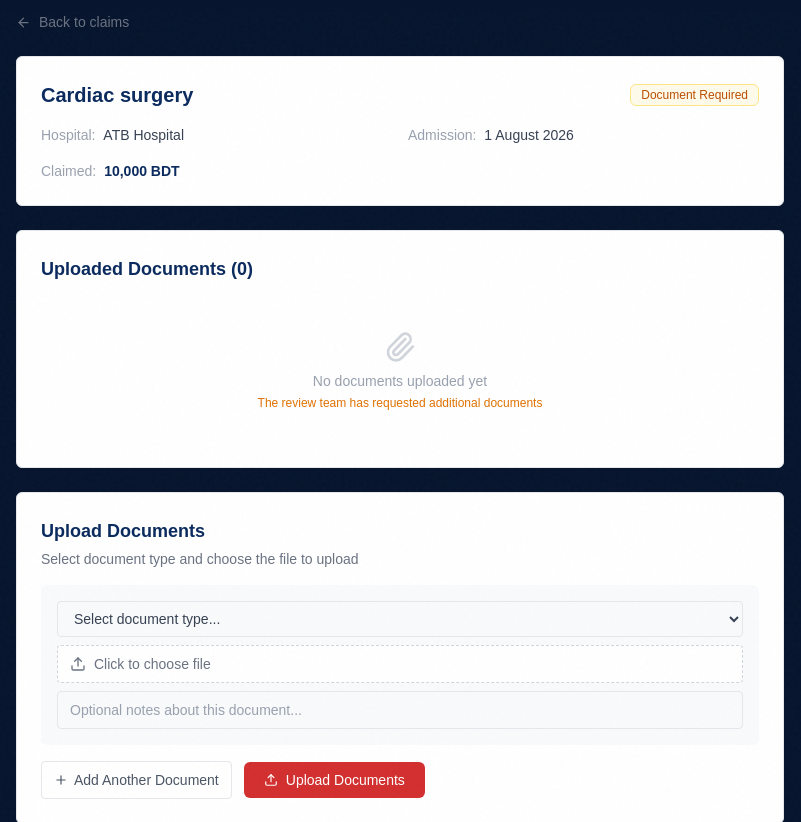
Test case: ClaimDetailPage › shows a validation error when uploading without selecting a file
The image size is (801, 822).
Expected: the heading "Cardiac surgery" is shown, [41,81,193,109]
Click the button "Upload Documents" at (334, 780), box [244,762,425,798]
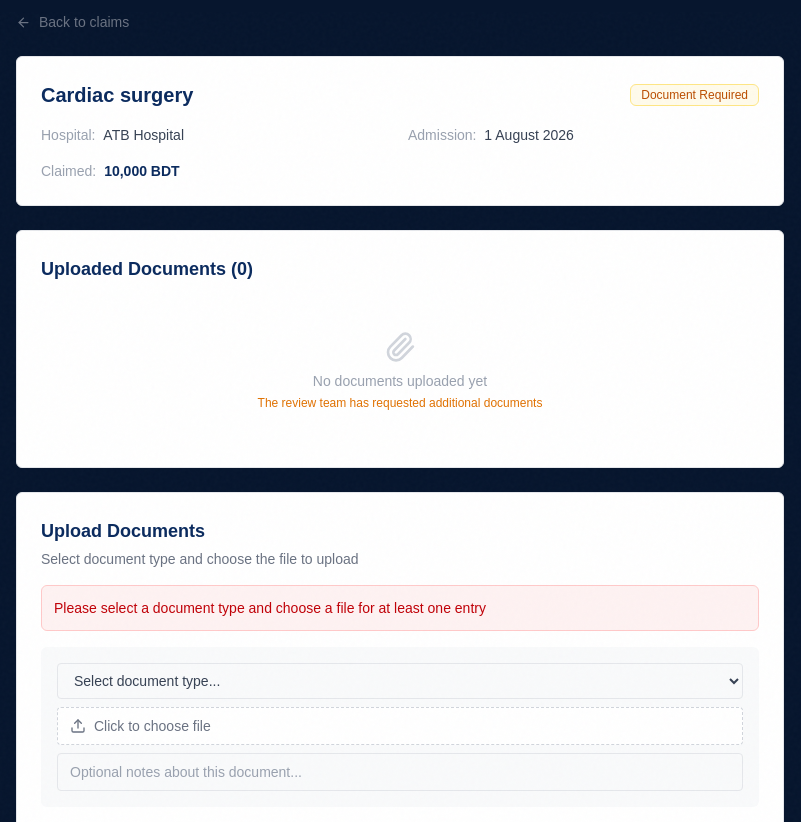
Expected: the text "Please select a document type and choose a file for at least one entry" is shown, [41,585,759,631]
